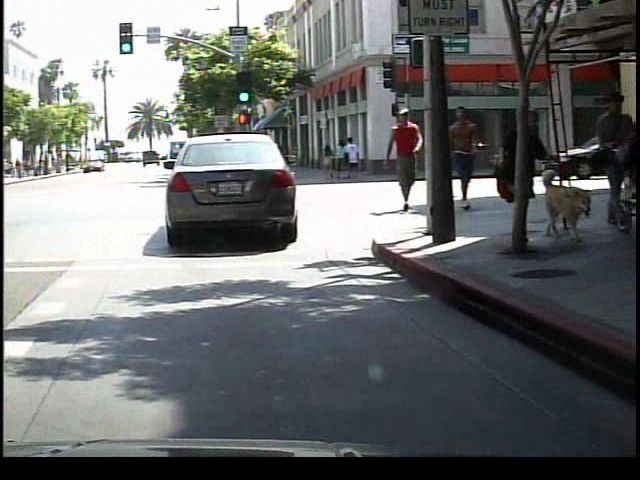person: (381, 102, 425, 221), (443, 101, 484, 218)
